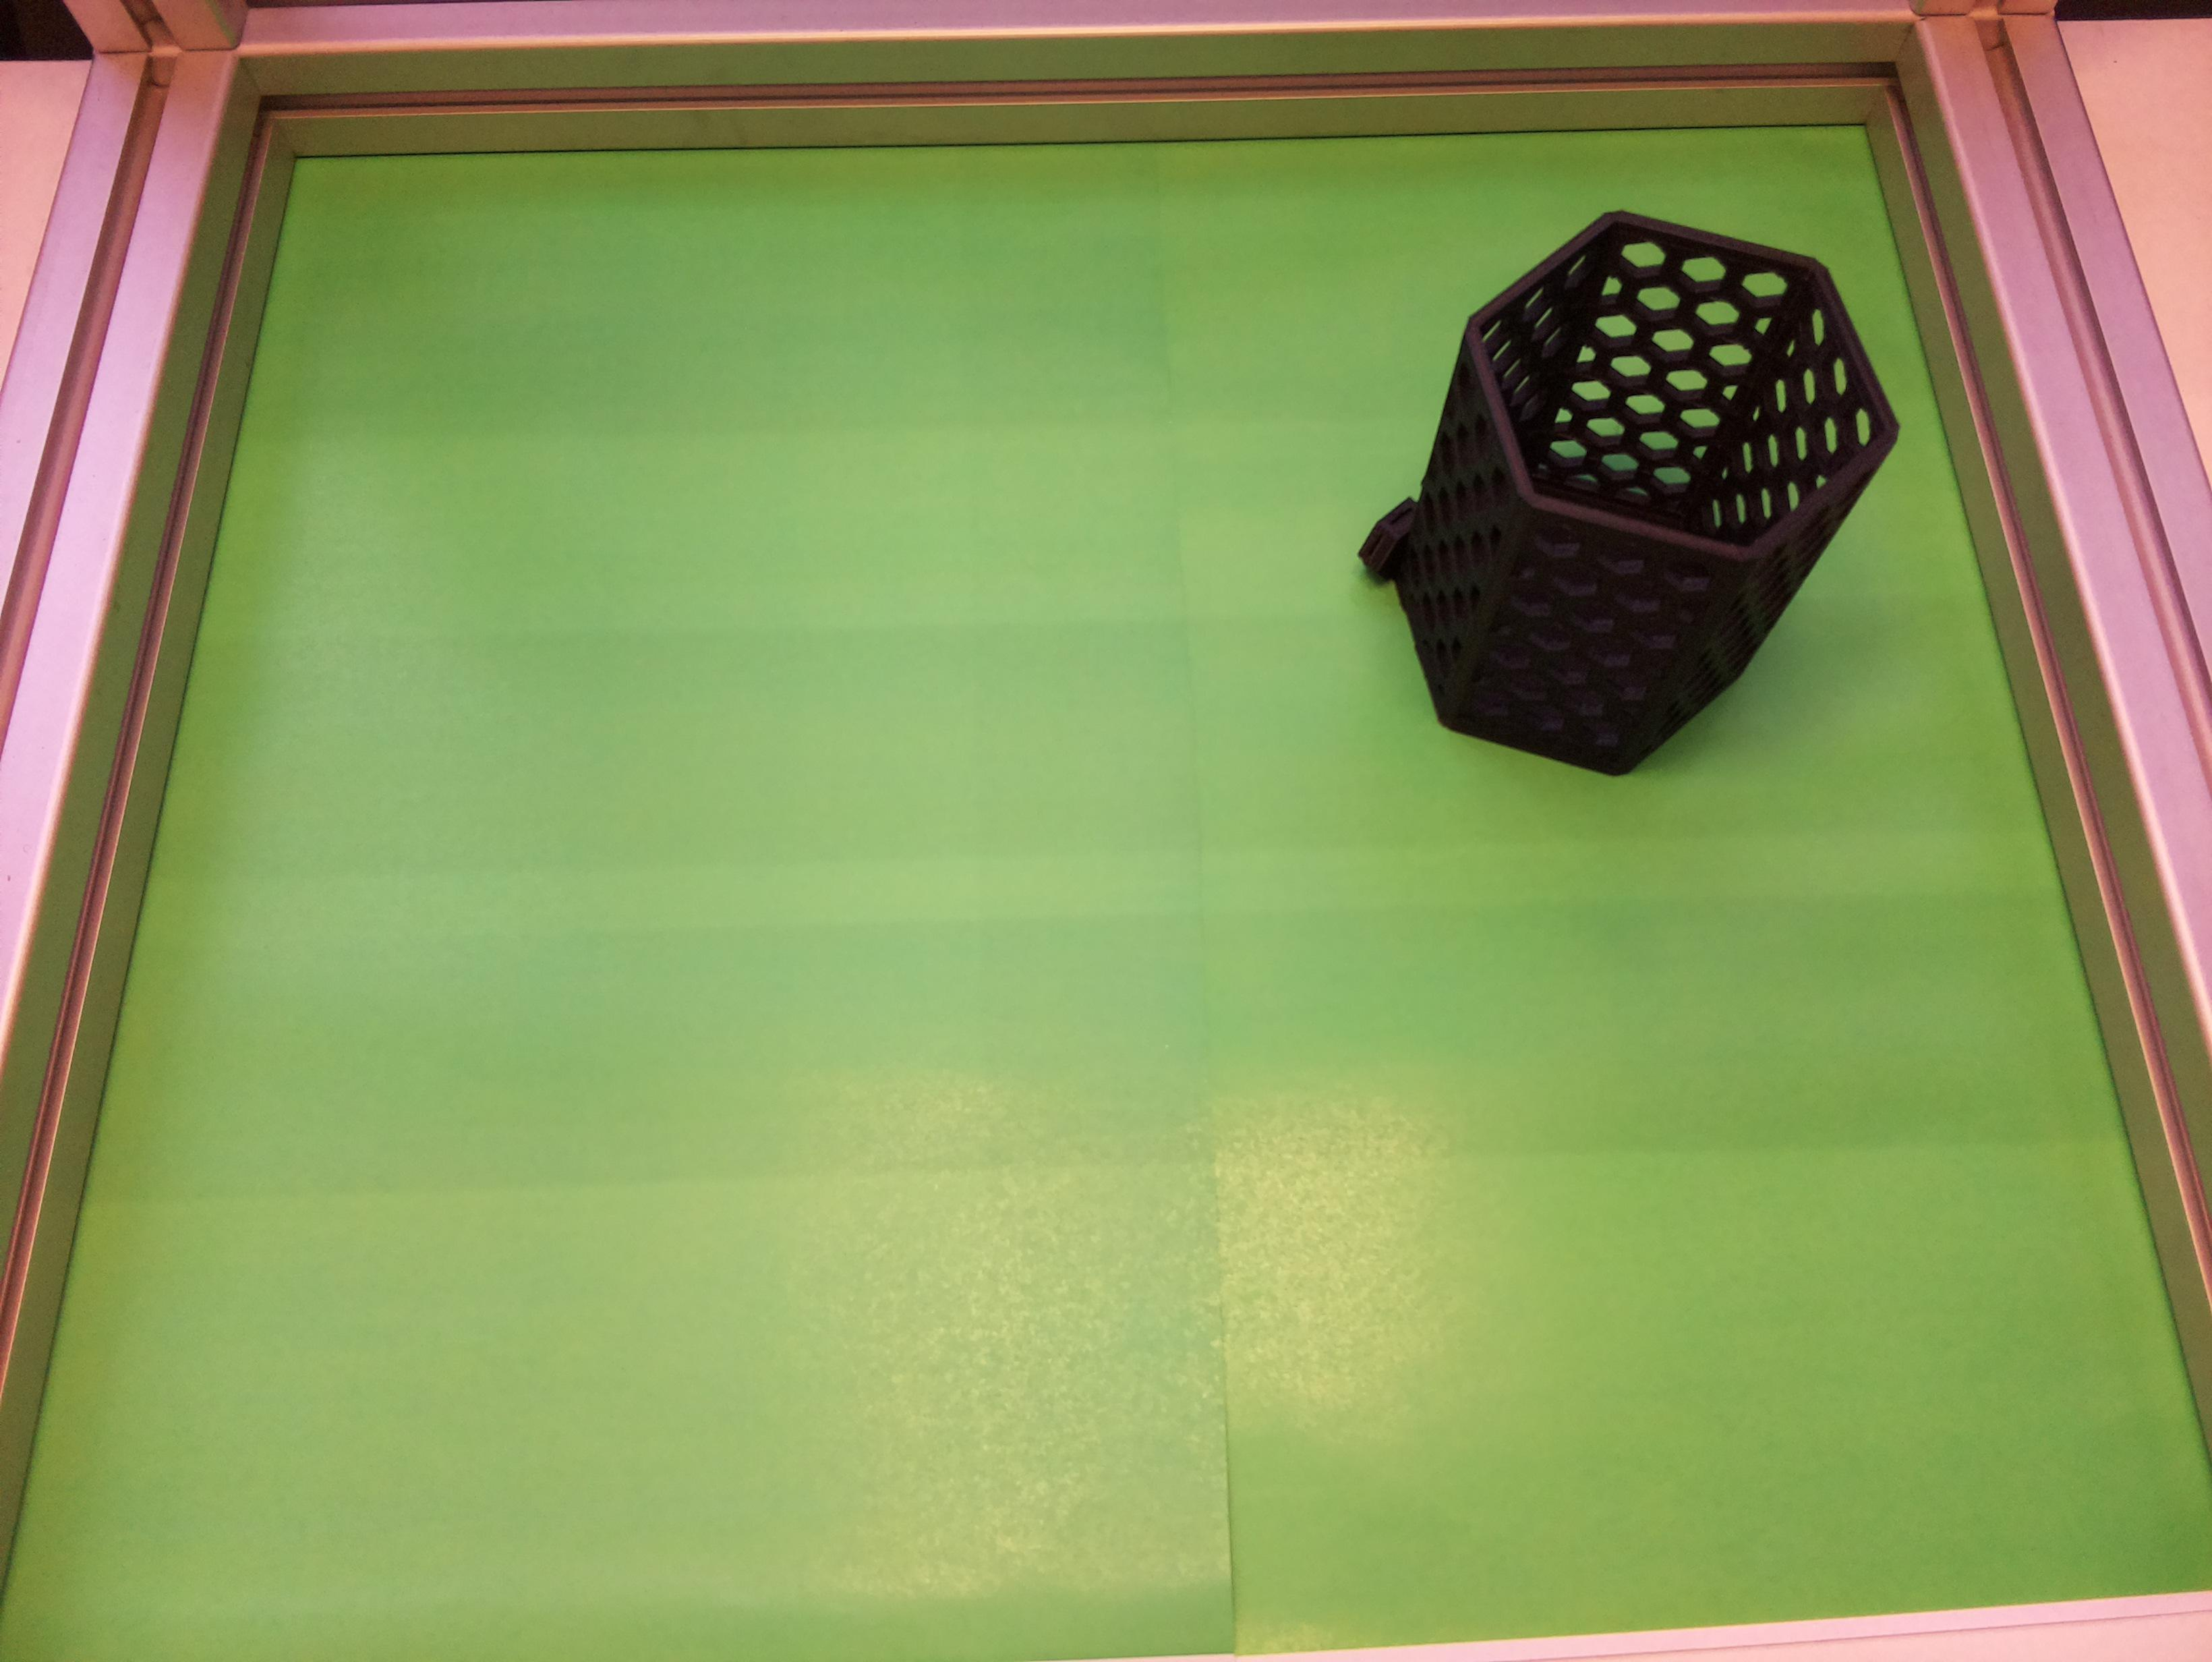cup_holder: (1274, 119, 1955, 848)
